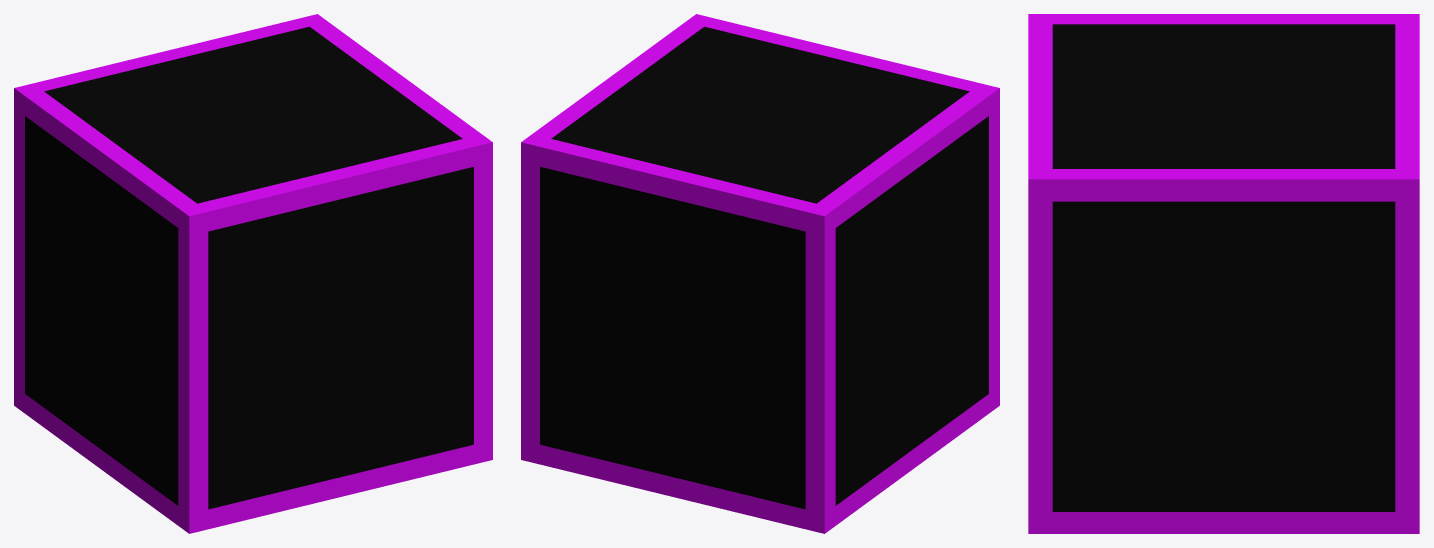
Rendered from MapBlock.fbx.
3 renders of one model, left to right at view 1: azimuth 30°, elevation 25°; view 2: azimuth 150°, elevation 25°; view 3: azimuth 270°, elevation 25°, orthographic. The views are drawn at different scales.
Parts seen in each view (by area): view 1: Cube; view 2: Cube; view 3: Cube.
Part boxes in pixels (x1,y1,x2,y2): Cube: [14, 14, 492, 533]; Cube: [521, 14, 999, 533]; Cube: [1028, 14, 1419, 533].
Bounding box in the file's own units: 200 × 200 × 200.
